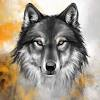Lobo: (17, 3, 91, 92)
